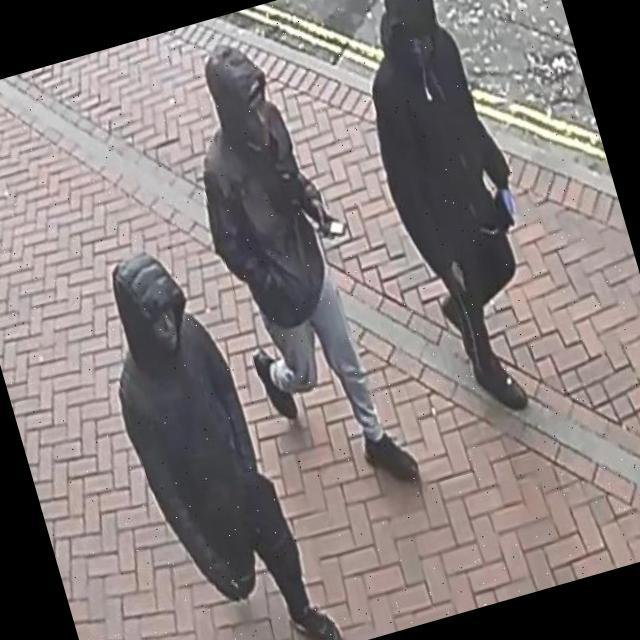person: (166, 24, 422, 510), (79, 222, 346, 640), (329, 0, 580, 430)
